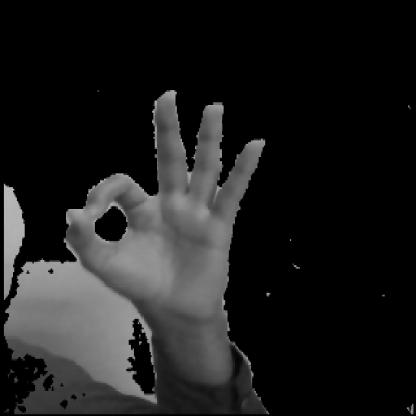ok: (59, 76, 278, 328)
